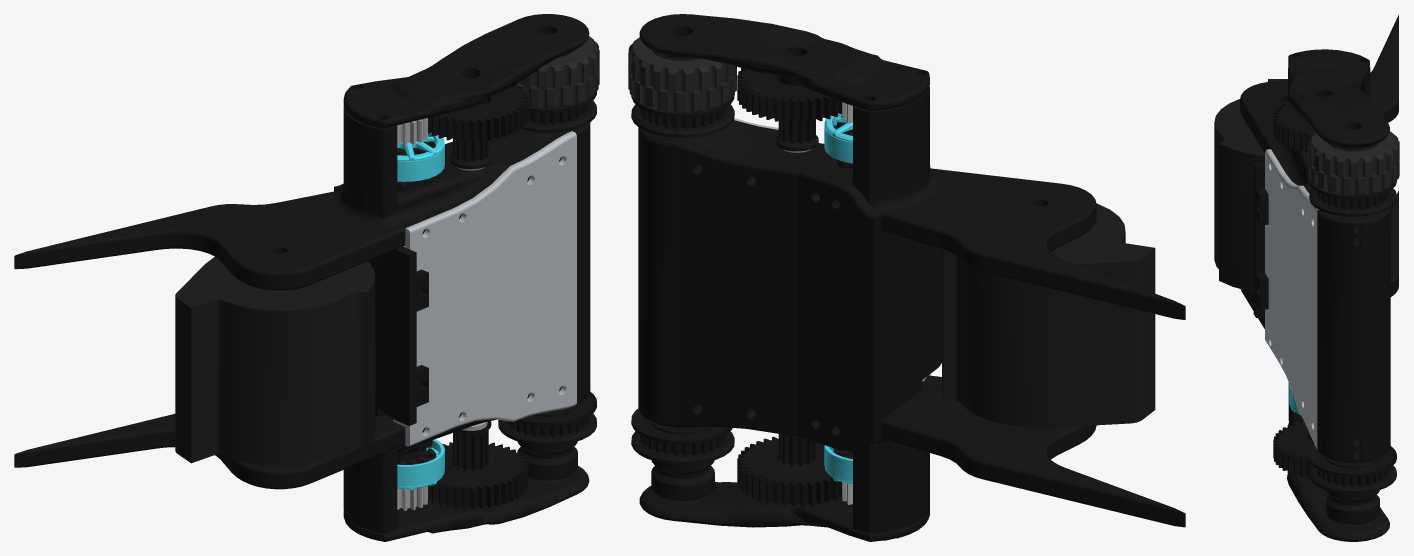
Rendered from edgehog-v6.glb.
The picture shows the model from 3 angles, left to right: view 1: azimuth 30°, elevation 25°; view 2: azimuth 150°, elevation 25°; view 3: azimuth 270°, elevation 25°; orthographic projection. The views are drawn at different scales.
Bounding box in the file's own units: 186 × 146 × 61.15.
